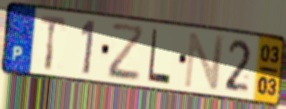1: (78, 19, 97, 78)
2: (224, 38, 253, 96)
L: (146, 27, 172, 87)
N: (182, 31, 227, 92)
T: (38, 13, 68, 73)
Z: (108, 22, 146, 84)
